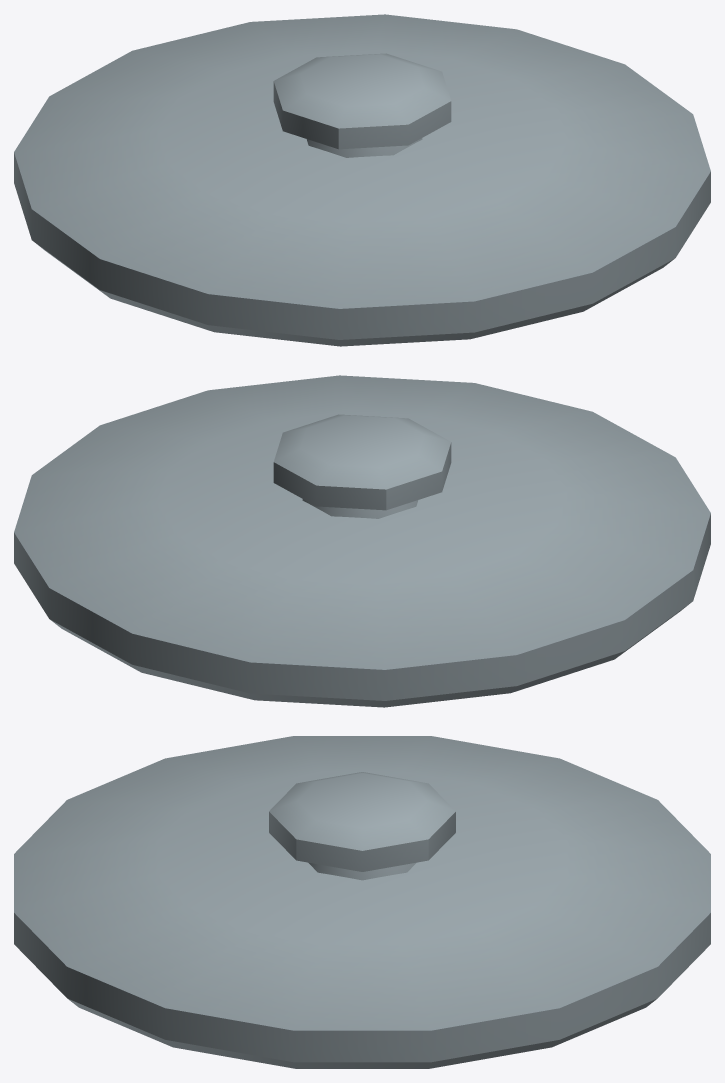
File: lid_A.obj
The picture shows the model from 3 angles, top to bottom: view 1: azimuth 30°, elevation 25°; view 2: azimuth 150°, elevation 25°; view 3: azimuth 270°, elevation 25°; orthographic projection.
Parts seen in each view (by area): view 1: lid_A_Cylinder.199; view 2: lid_A_Cylinder.199; view 3: lid_A_Cylinder.199.
Boxes of the visible parts, x1,y1,x2,y2 form: lid_A_Cylinder.199: (14,14,710,346); lid_A_Cylinder.199: (14,375,710,707); lid_A_Cylinder.199: (14,736,710,1068).
Bounding box in the file's own units: 1 × 0.2004 × 1.
Materials: 1 (1 with a texture image).
